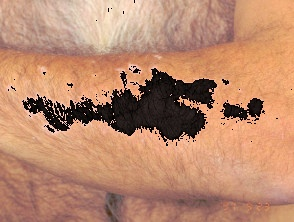vitiligo: (0, 48, 274, 157)
